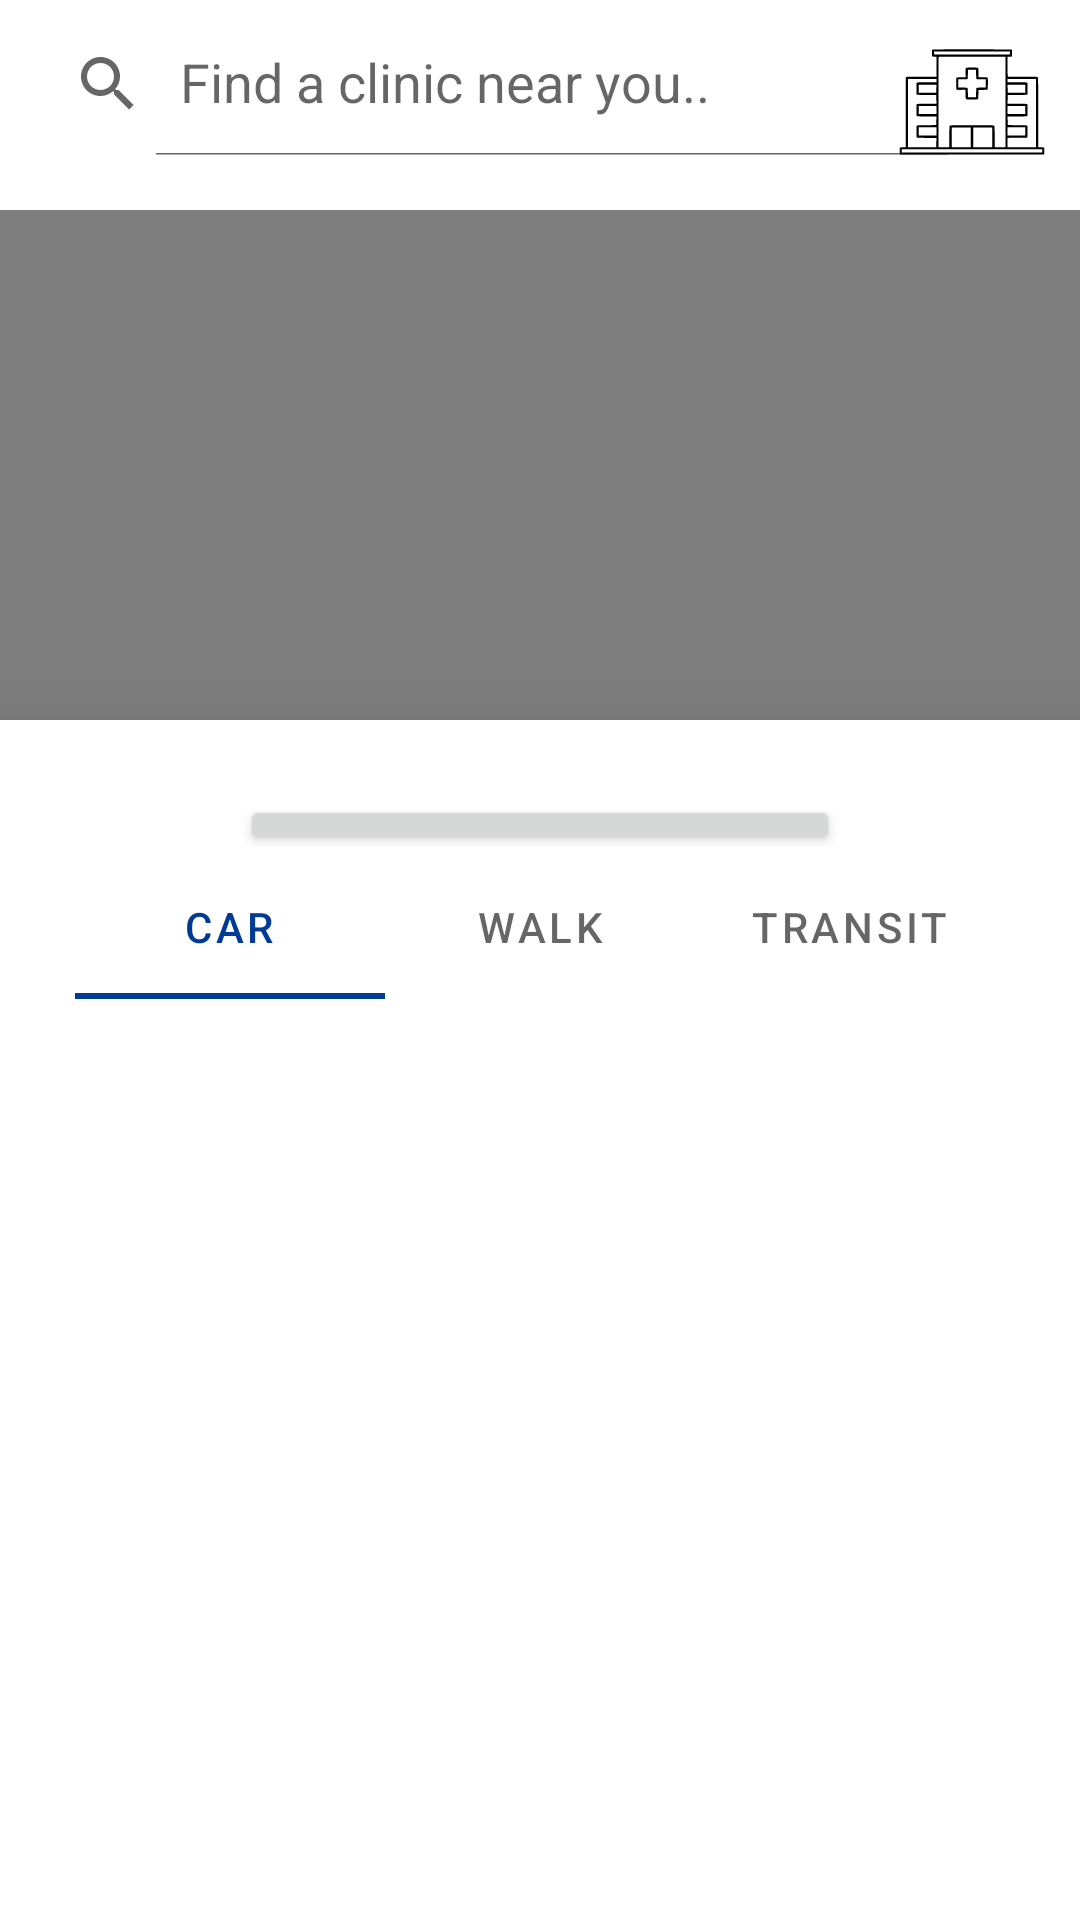

Icons on this 1080 x 1920 Android screen, each with the point to tap as (x=x, y=y):
hospital: (x=963, y=102)
